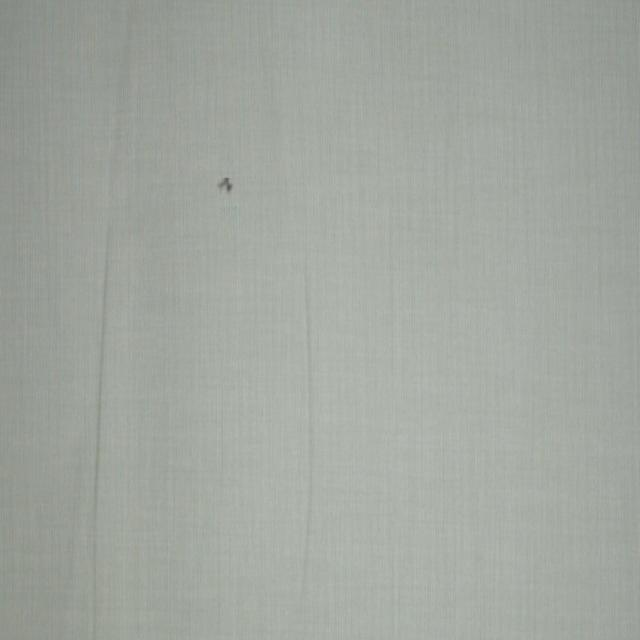dirty: (217, 173, 232, 197)
